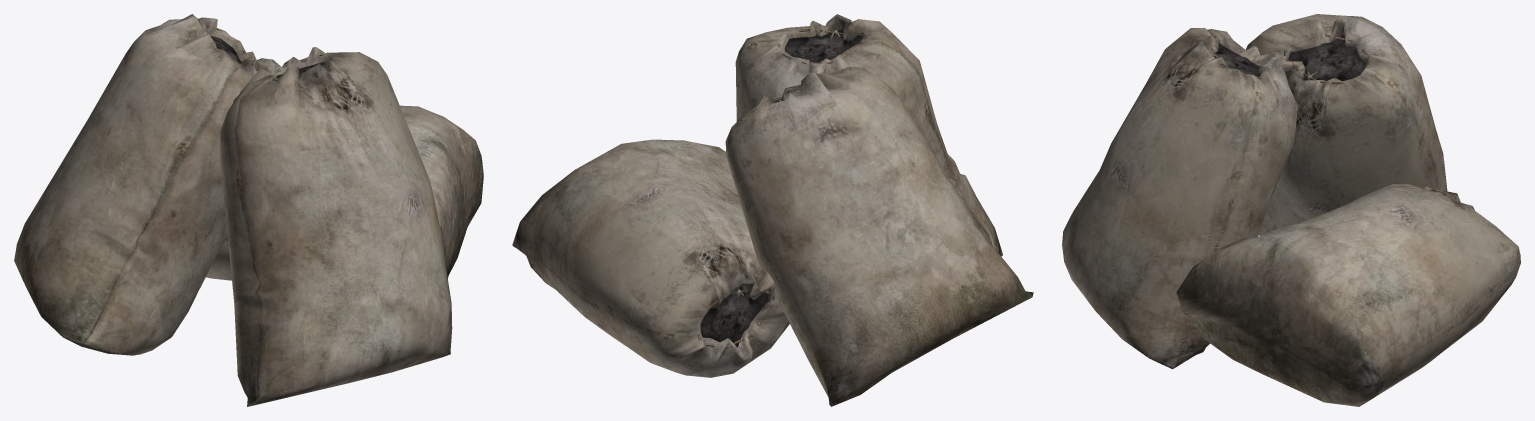
File: AEG003_079-transformed.glb
3 renders of one model, left to right at view 1: azimuth 30°, elevation 25°; view 2: azimuth 150°, elevation 25°; view 3: azimuth 270°, elevation 25°, orthographic. The views are drawn at different scales.
Parts seen in each view (by area): view 1: default; view 2: default; view 3: default.
Boxes of the visible parts, <box> form: default: <box>14,14,483,406</box>; default: <box>512,14,1033,406</box>; default: <box>1062,14,1520,406</box>.
Size of the model in its own units: 1.35 by 0.8103 by 1.17.
Materials: 1 (1 with a texture image).
